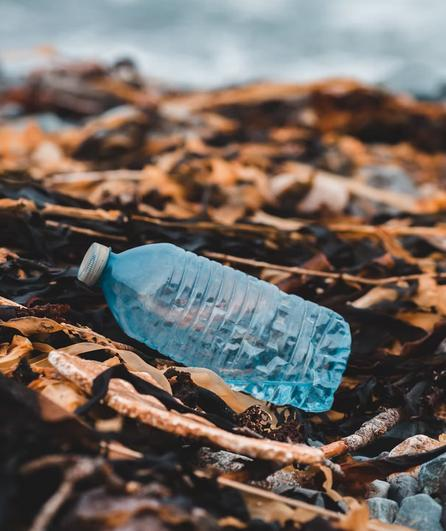Plastic: (72, 224, 355, 422)
